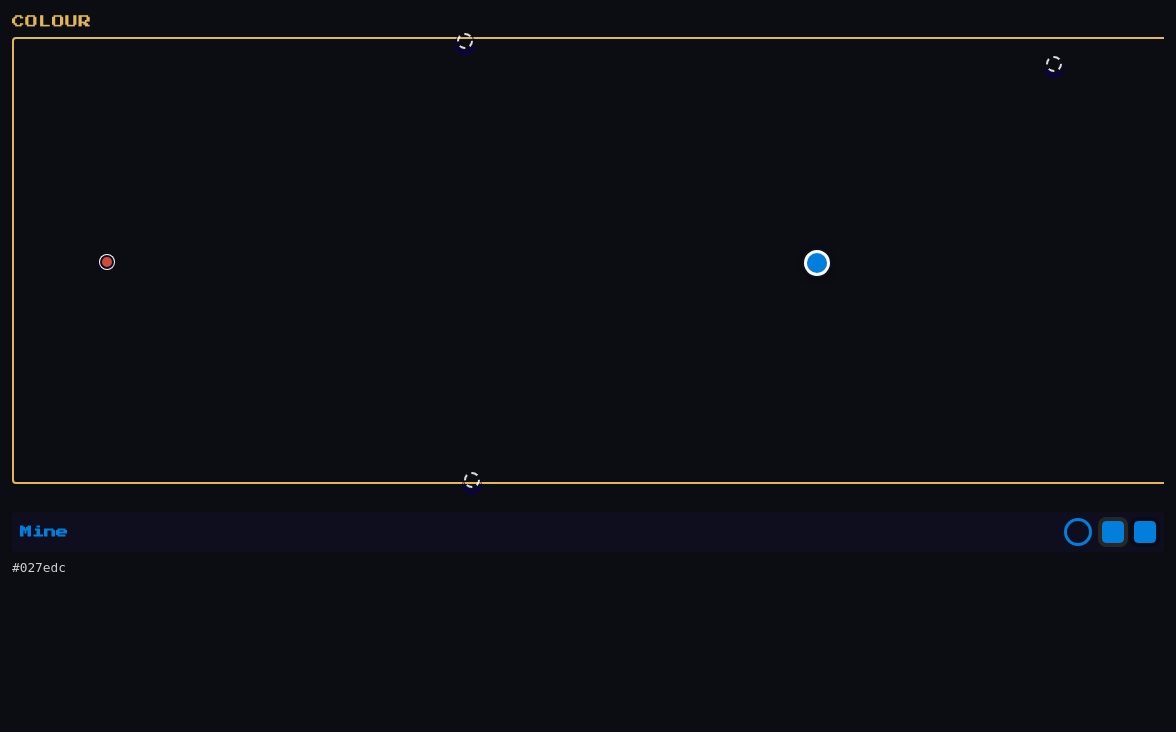
Scenario: ColorPicker › lets a tap in a zone take over from keys still waiting: one message, the tap's
Step 1. Press ArrowUp in the slider, box [804, 250, 830, 276]
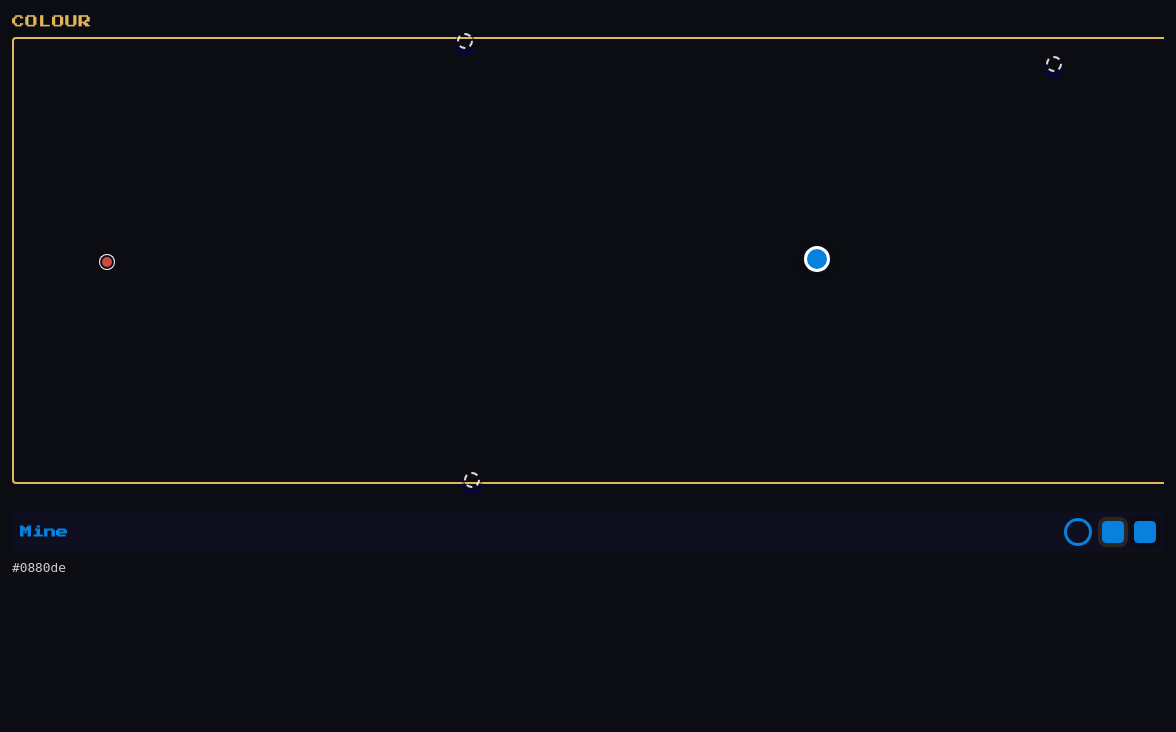
Step 2. Press the mouse on the element with test id "color-picker-window" → (588, 261), box [12, 37, 1164, 484]
Wait 400 ms
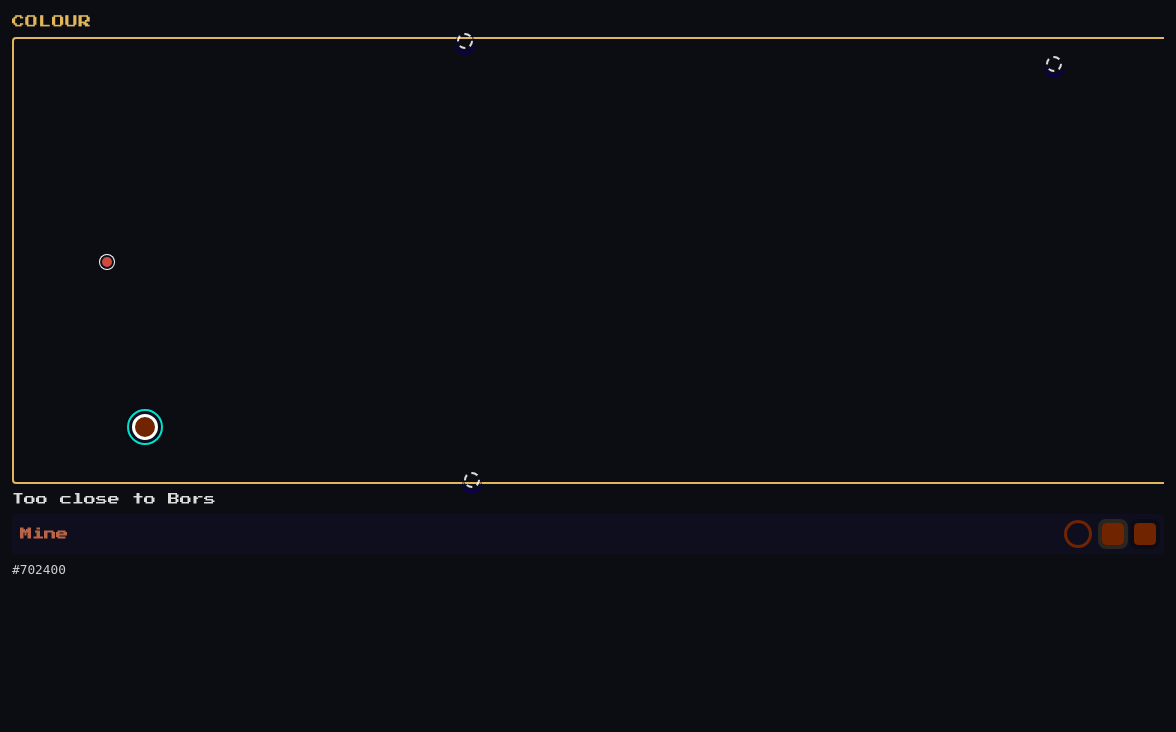
Now the text "Too close to Bors" is shown, box [12, 493, 216, 505]
